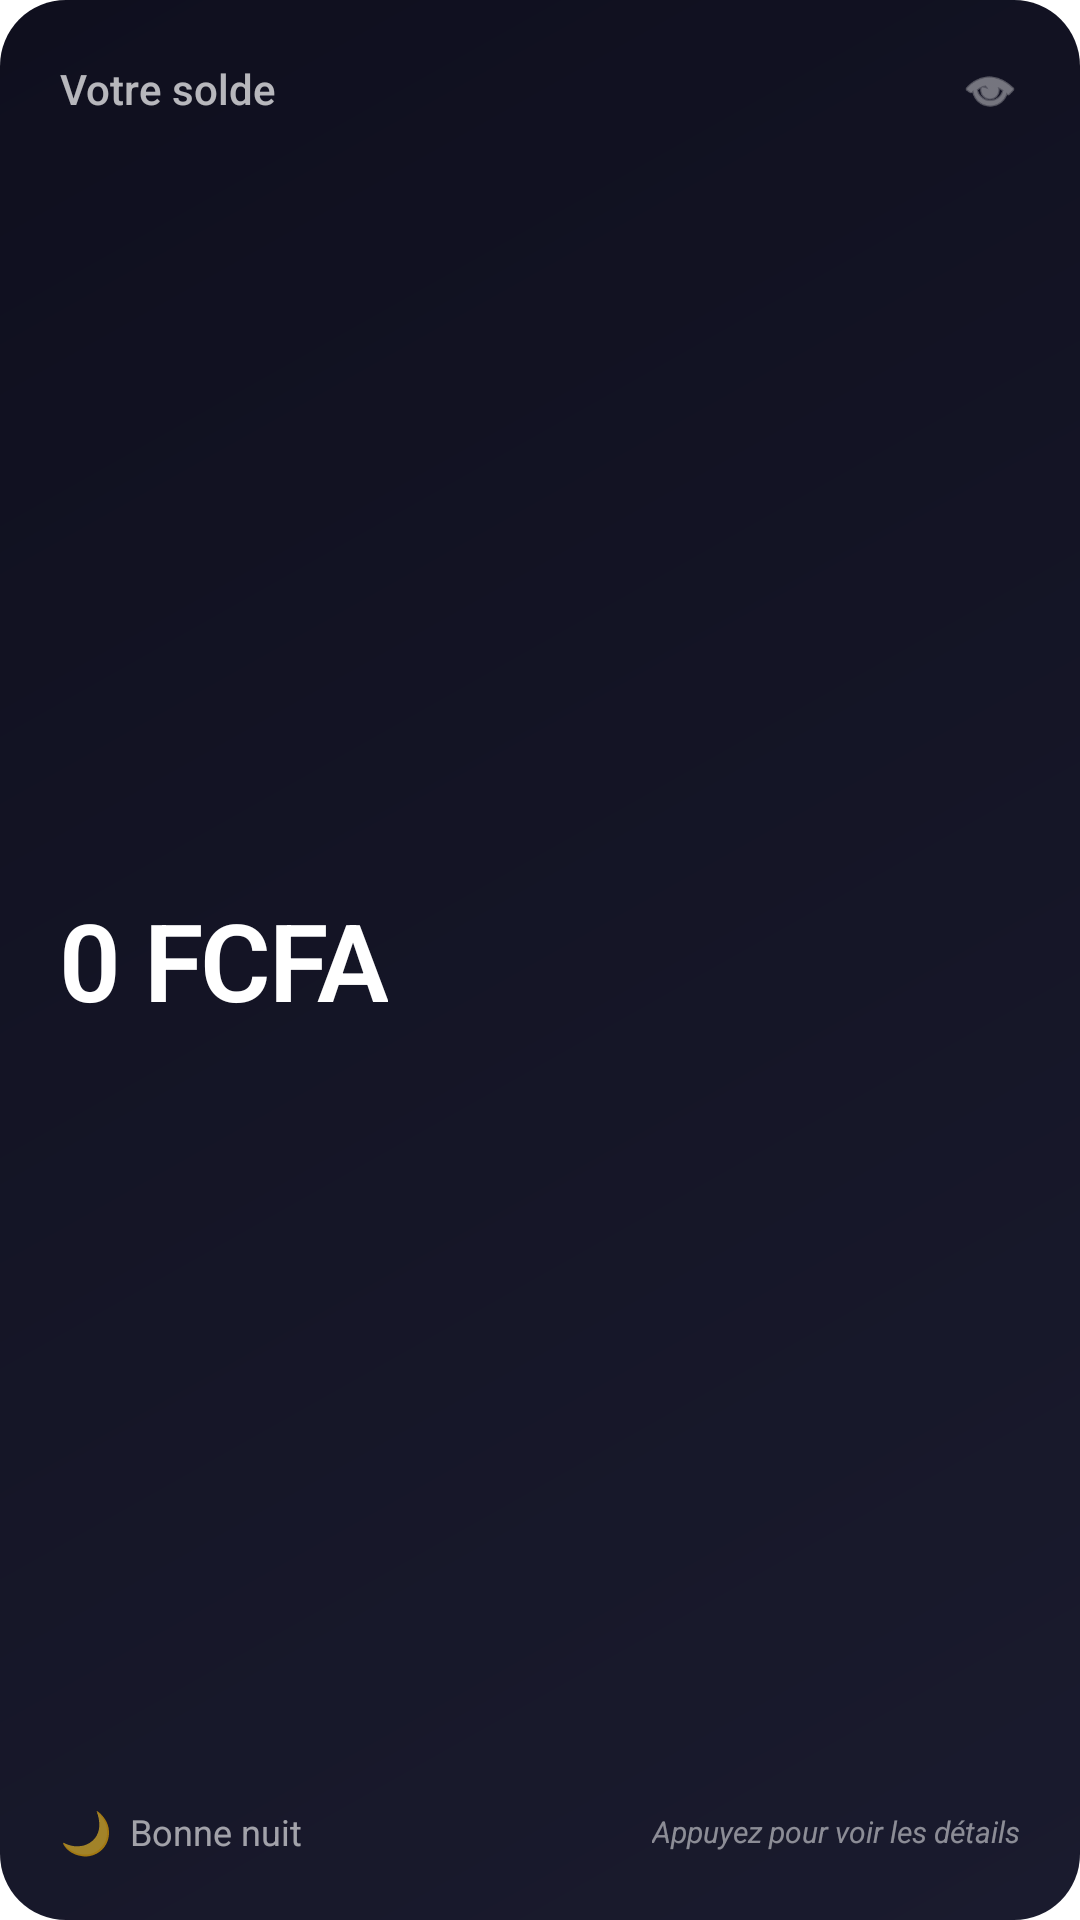

Icon bounding boxes for this 1080×1920 phone screenshot, format [x1=x1, y1=y1, x2=x2, y2=y2]:
view: [x1=966, y1=76, x2=1014, y2=107]
